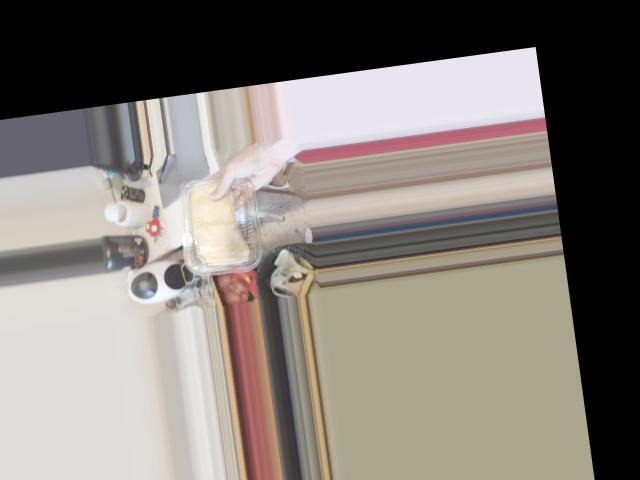cheese: (167, 175, 269, 272)
